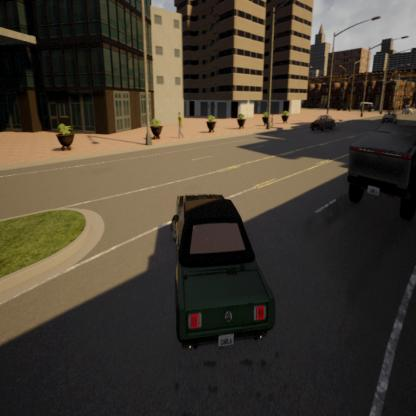Cars: (170, 192, 275, 348), (348, 125, 416, 214), (310, 113, 337, 134), (382, 108, 398, 124), (359, 98, 373, 112)
Pedestrian: (175, 112, 186, 140)
